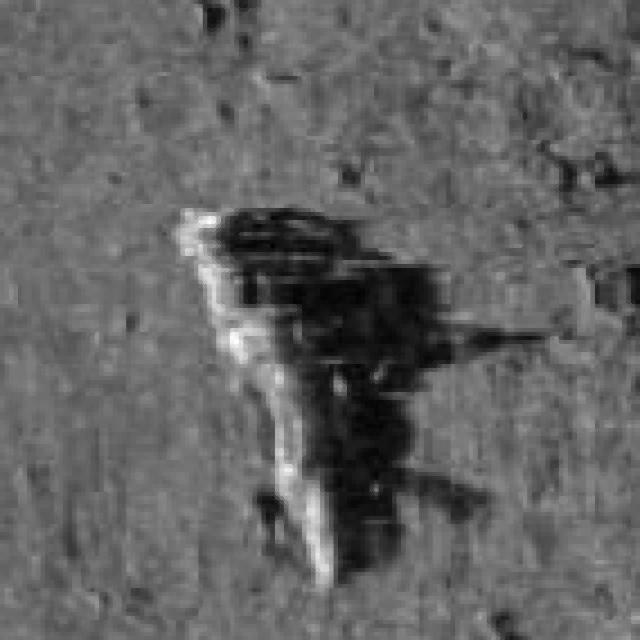Ship: (171, 192, 559, 596)
